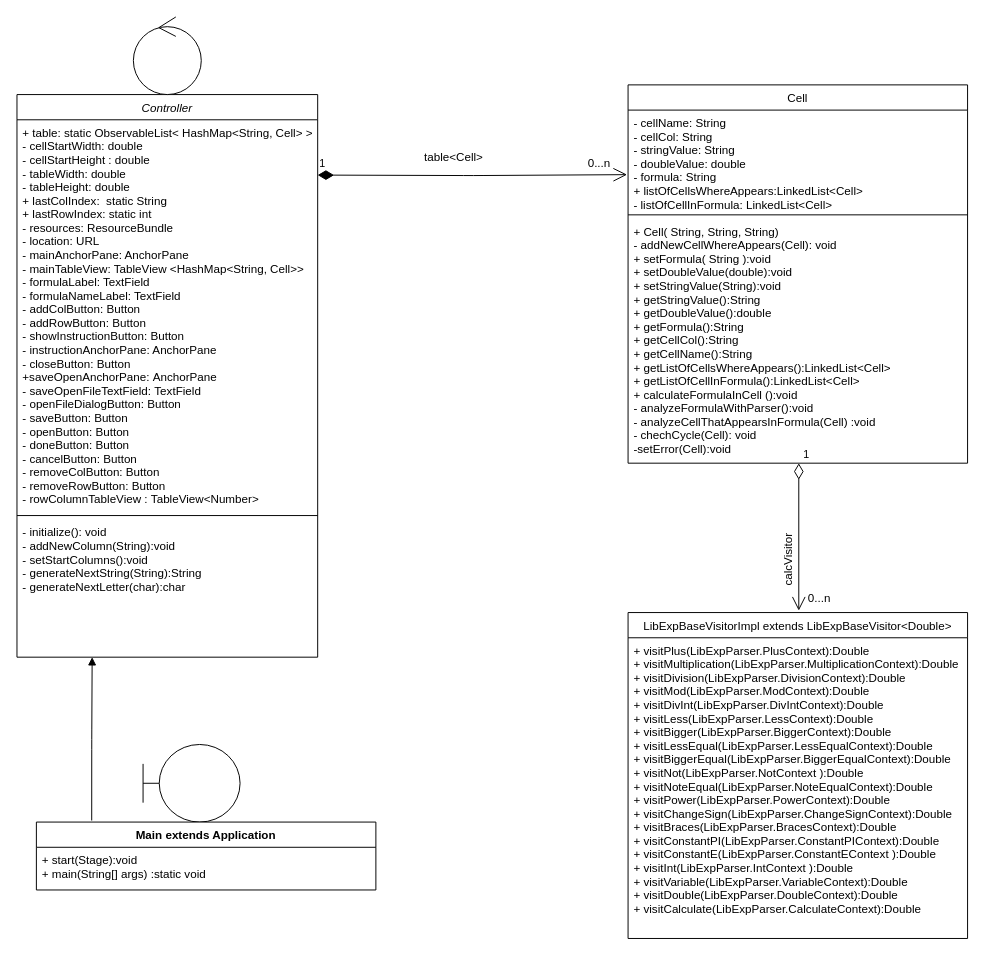
Image size: 985x955. Some labels were removed from this diagram. Here are the shapes that lost their labels. From the top down, the centre of each, then its label:
the point at 166,55: Control Object
the point at 191,783: Boundary Object
